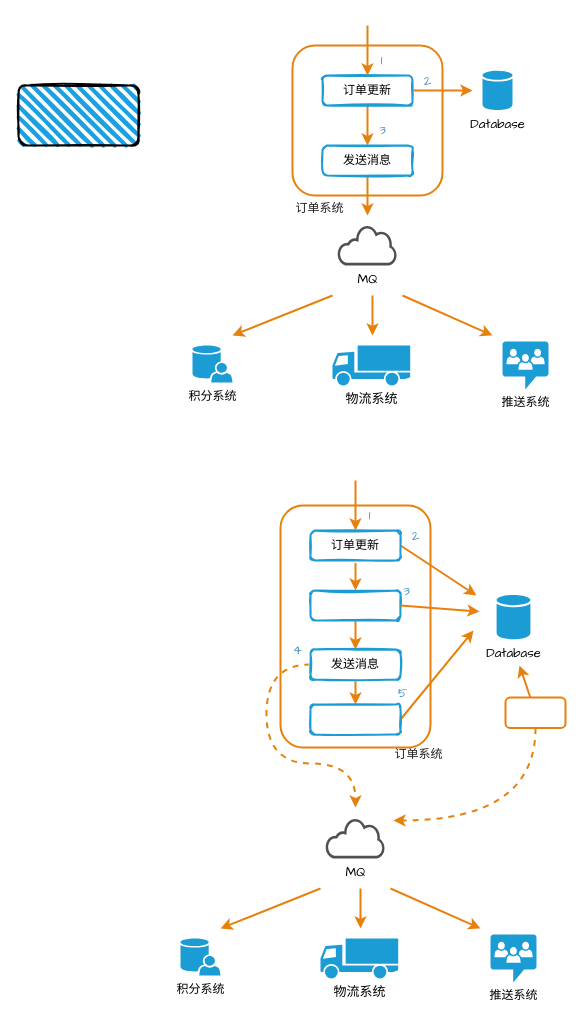
This 583x1020 diagram has some shape labels left out. Here are the shapes that lost their labels. From the top down, the box of each, then its label:
(309, 589, 401, 621): 消息发送记录
(309, 703, 401, 735): 更新发送记录
(504, 696, 566, 728): 后台任务
